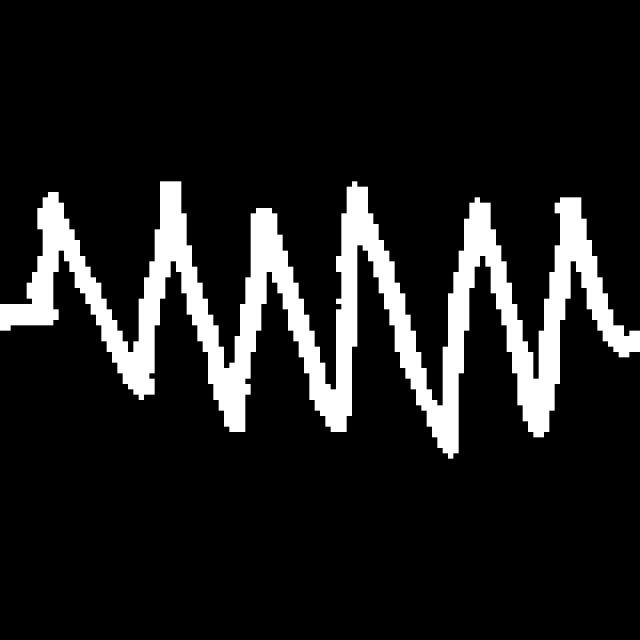resistor: (26, 165, 626, 479)
